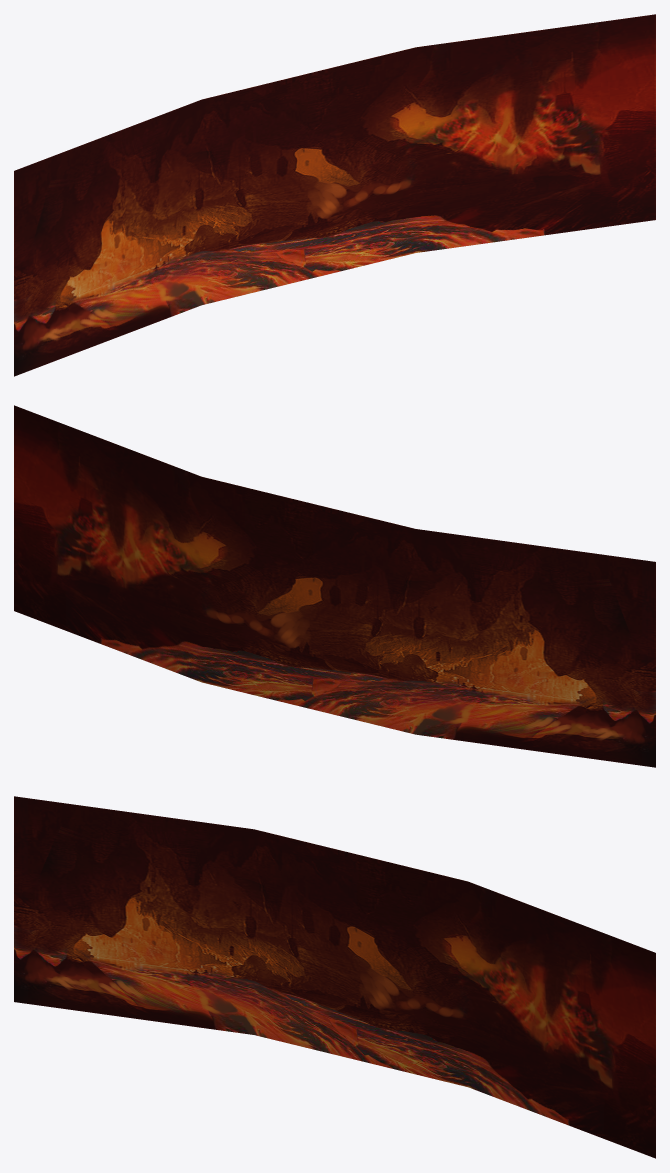
Rendered from SV_BAG_jjc0_rybeijing.FBX.
3 views of the same model, one above another, from view 1: azimuth 30°, elevation 25°; view 2: azimuth 150°, elevation 25°; view 3: azimuth 330°, elevation 25° (orthographic).
Parts seen in each view (by area): view 1: SV_BAG_jjc0_rybeijing; view 2: SV_BAG_jjc0_rybeijing; view 3: SV_BAG_jjc0_rybeijing.
Part boxes in pixels (x1=…): SV_BAG_jjc0_rybeijing: x1=14, y1=14, x2=655, y2=376; SV_BAG_jjc0_rybeijing: x1=14, y1=405, x2=655, y2=767; SV_BAG_jjc0_rybeijing: x1=14, y1=796, x2=655, y2=1158.
Bounding box in the file's own units: 39.58 × 12.12 × 2.8.
1 material, 1 textured.
